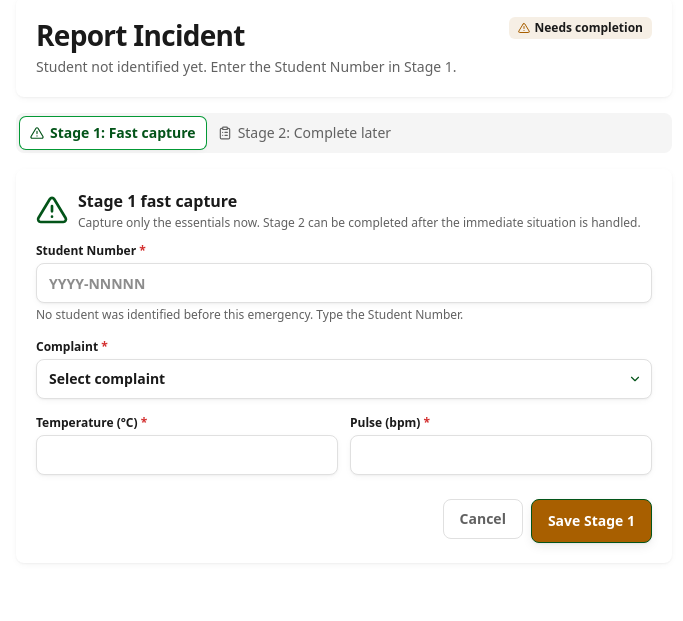
Test: Report Incident › validates Stage 1 essentials inline
Expected: the heading "Report Incident" is shown, [36, 16, 245, 54]
Click the button "Save Stage 1" at {"x": 591, "y": 521}, box [531, 499, 652, 543]
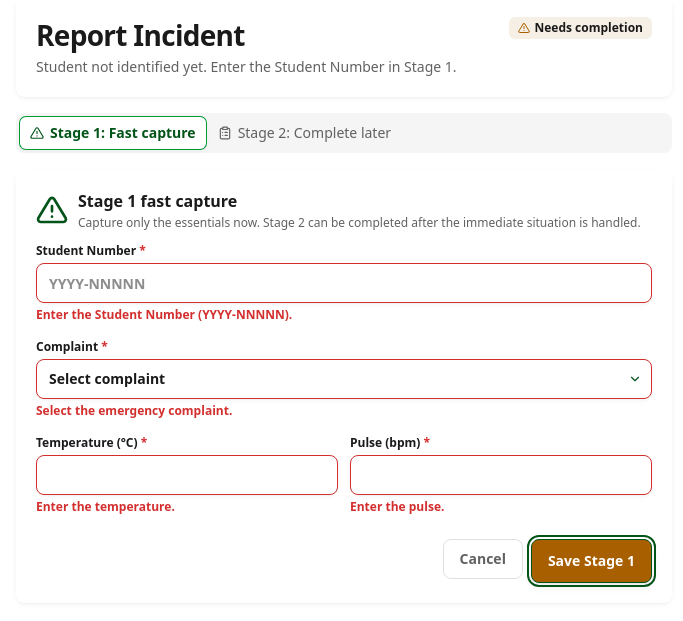
Now the text "Select the emergency complaint." is shown, box [36, 402, 232, 419]
Now the text "Enter the temperature." is shown, box [36, 498, 175, 515]
Now the text "Enter the pulse." is shown, box [350, 498, 444, 515]
